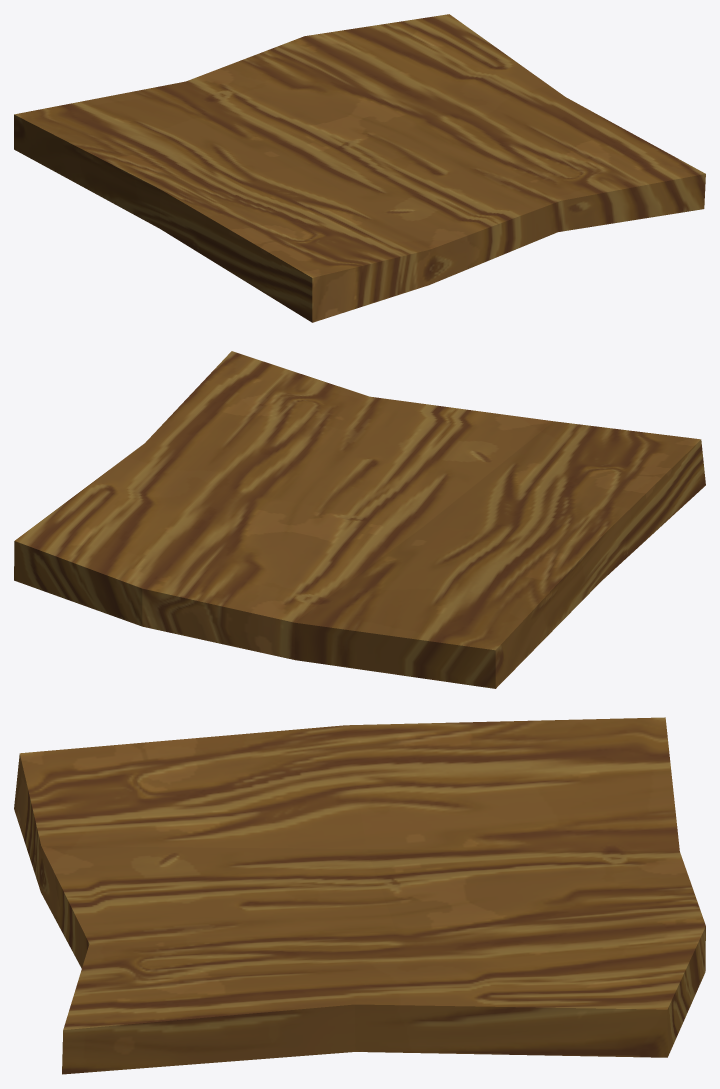
File: plank2_2x3.glb
The picture shows the model from 3 angles, top to bottom: view 1: azimuth 30°, elevation 25°; view 2: azimuth 150°, elevation 25°; view 3: azimuth 270°, elevation 25°; orthographic projection. The views are drawn at different scales.
Parts seen in each view (by area): view 1: PLanks_square_medium.001; view 2: PLanks_square_medium.001; view 3: PLanks_square_medium.001.
Boxes of the visible parts, bbox=[...] form: PLanks_square_medium.001: bbox=[14, 14, 705, 322]; PLanks_square_medium.001: bbox=[14, 351, 705, 688]; PLanks_square_medium.001: bbox=[14, 717, 705, 1074].
Bounding box in the file's own units: 2.3 × 0.2608 × 2.22.
Materials: 1 (1 with a texture image).
